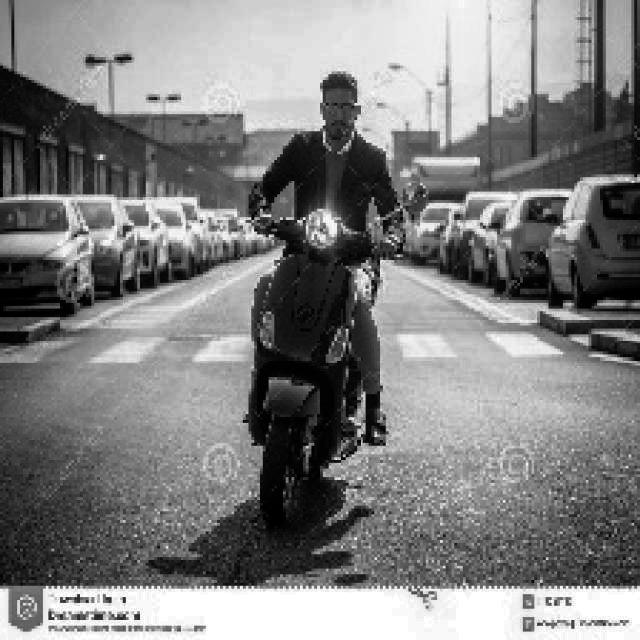Bike: (223, 219, 366, 511)
